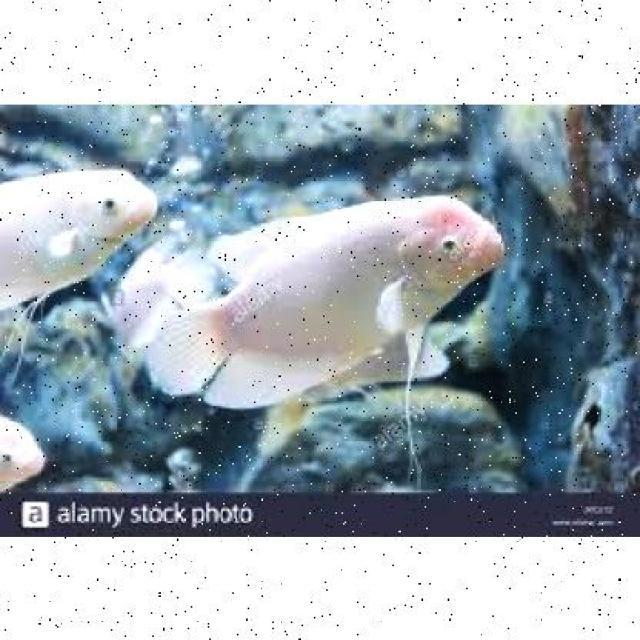gurame: (157, 190, 508, 401), (0, 162, 157, 304)
